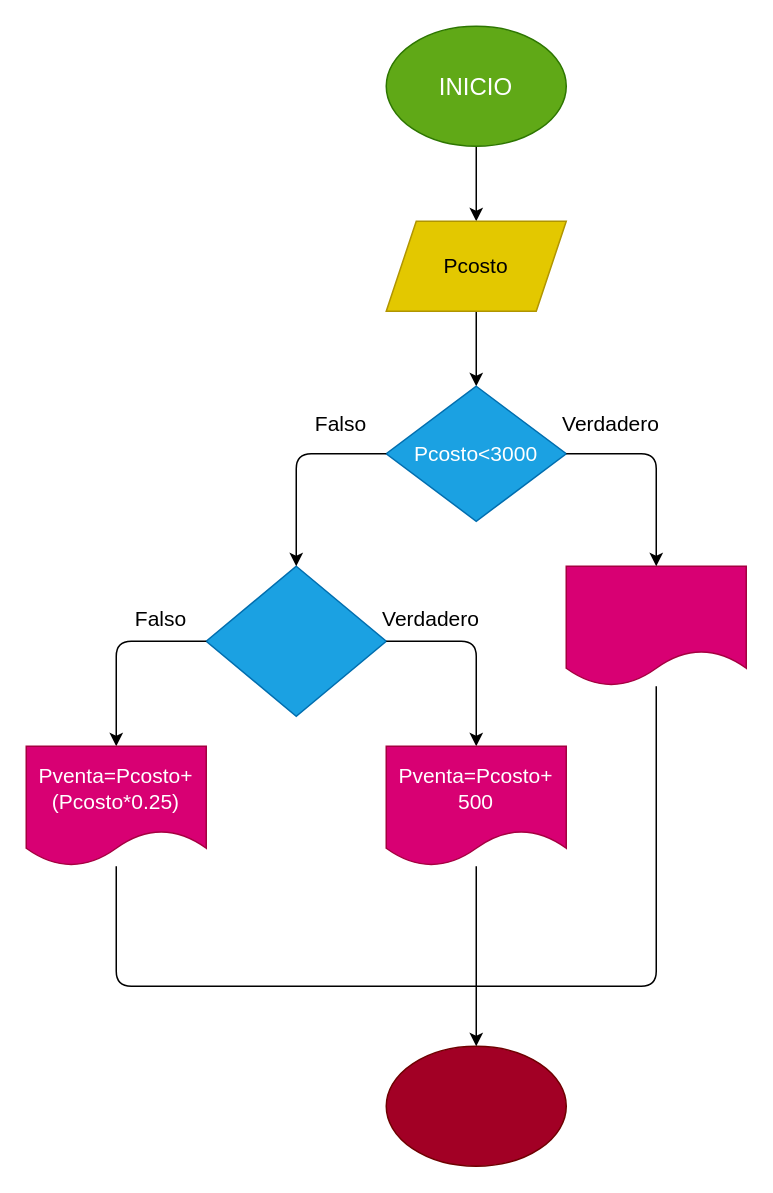
The diagram is 773 pixels wide and 1193 high, and some of its shapes have lost their labels. Each missing label, with the box of its shape:
FIN: (385, 1045, 566, 1166)
Pcosto<=6000: (205, 565, 386, 716)
Pventa=Pcosto+(Pcosto*0.15): (565, 565, 746, 686)
